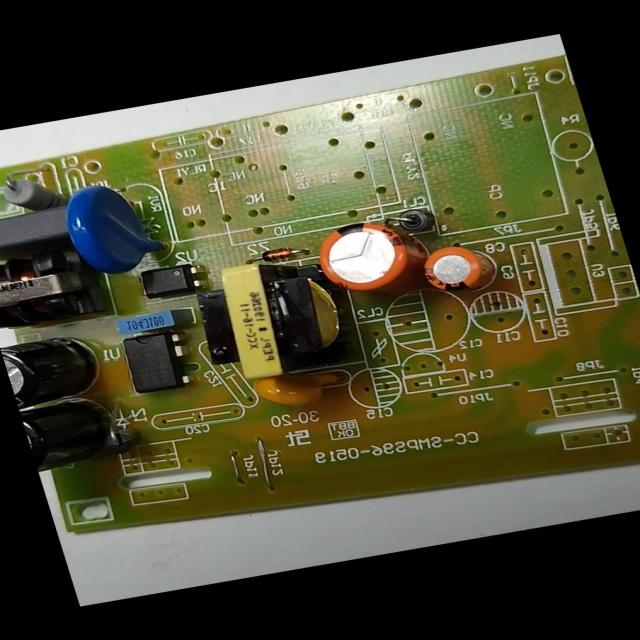Cap1: (309, 216, 421, 295)
Cap2: (415, 242, 486, 292)
Cap3: (0, 329, 105, 411)
Cap4: (19, 394, 113, 476)
MOSFET: (118, 328, 198, 394)
Mov: (59, 177, 175, 278)
Resistor: (0, 168, 62, 215)
Transformer: (185, 250, 355, 387), (0, 240, 103, 331)
